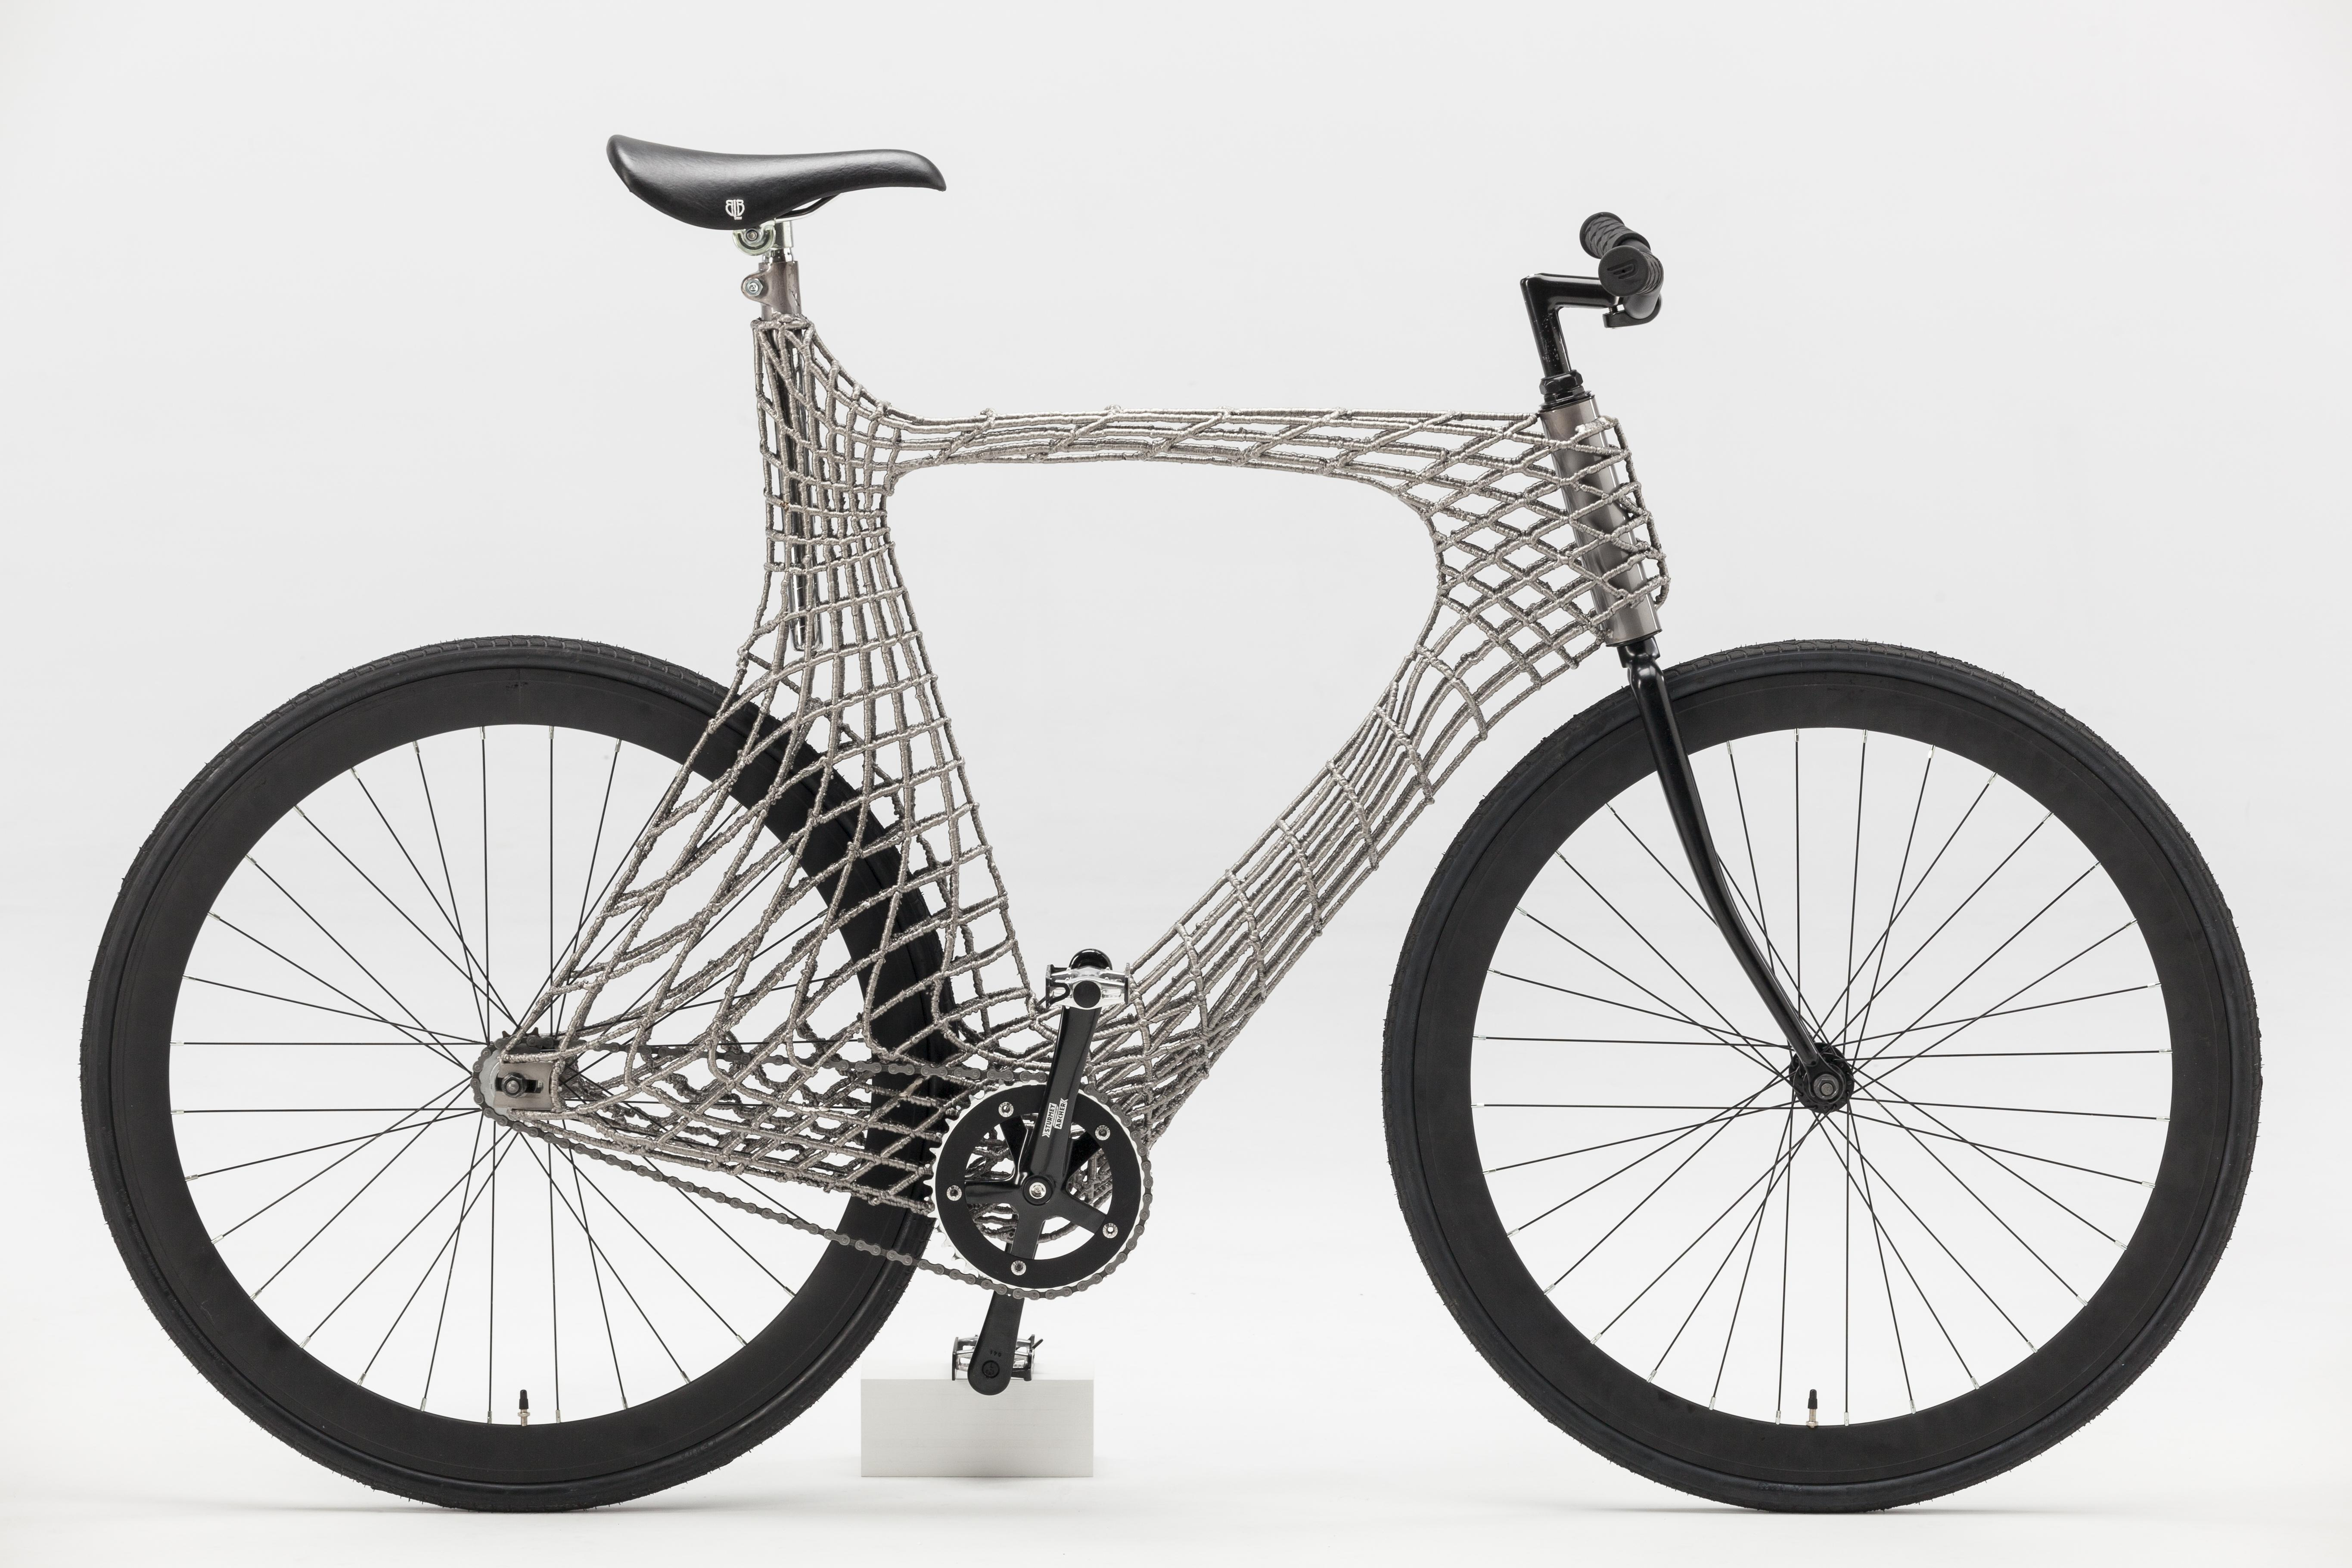bicycle: (77, 133, 2266, 1514)
